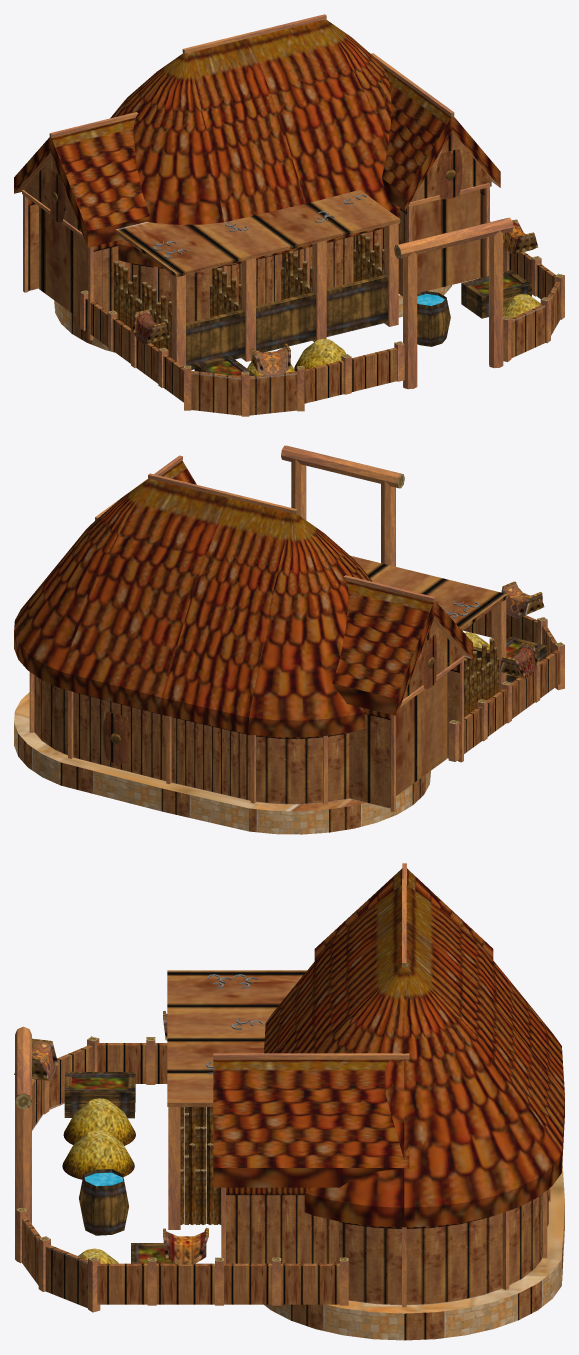
The model's file is arsenal.dae.
3 views of the same model, one above another, from view 1: azimuth 30°, elevation 25°; view 2: azimuth 150°, elevation 25°; view 3: azimuth 270°, elevation 25° (orthographic). The views are drawn at different scales.
Parts seen in each view (by area): view 1: arsenal; view 2: arsenal; view 3: arsenal.
Part boxes in pixels (x1,y1,x2,y2): arsenal: [14, 14, 564, 416]; arsenal: [14, 445, 564, 834]; arsenal: [14, 863, 564, 1340].
Bounding box in the file's own units: 21.52 × 21.65 × 13.48.
